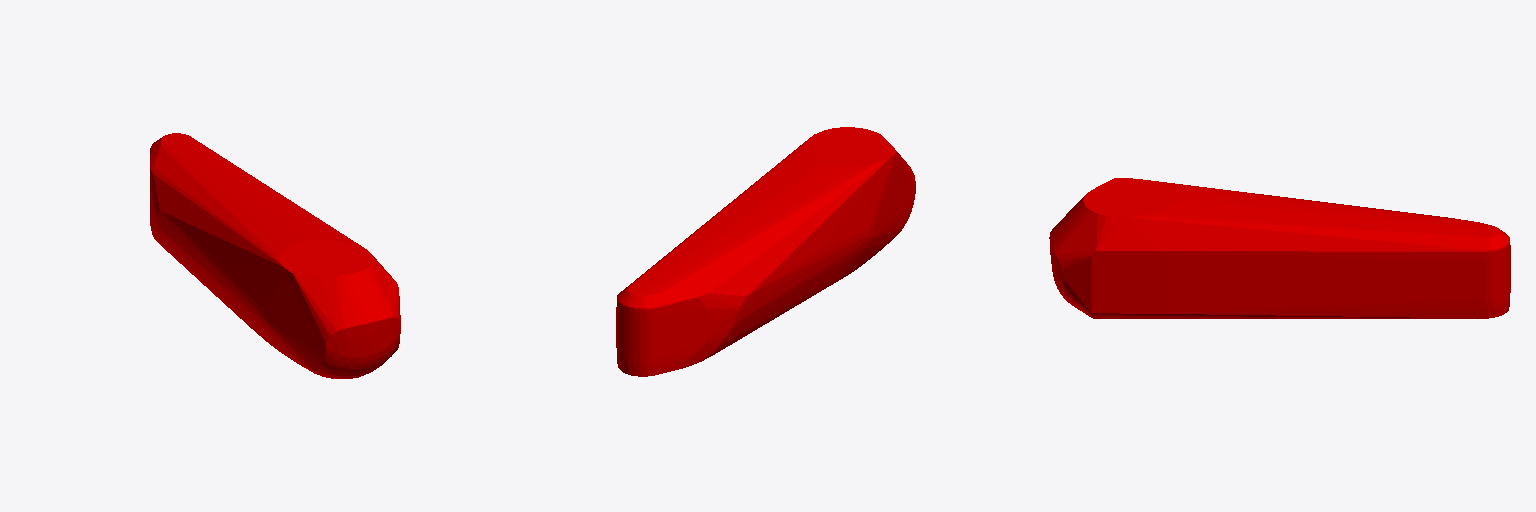
File: r_uleg_hull.obj
3 views of the same model, side by side, from view 1: azimuth 30°, elevation 25°; view 2: azimuth 150°, elevation 25°; view 3: azimuth 270°, elevation 25° (orthographic).
Parts seen in each view (by area): view 1: r_upper_leg; view 2: r_upper_leg; view 3: r_upper_leg.
Part boxes in pixels (x1,y1,x2,y2): r_upper_leg: (150,133,400,378); r_upper_leg: (616,127,915,376); r_upper_leg: (1049,178,1510,318).
Size of the model in its own units: 0.101 by 0.108 by 0.4112.